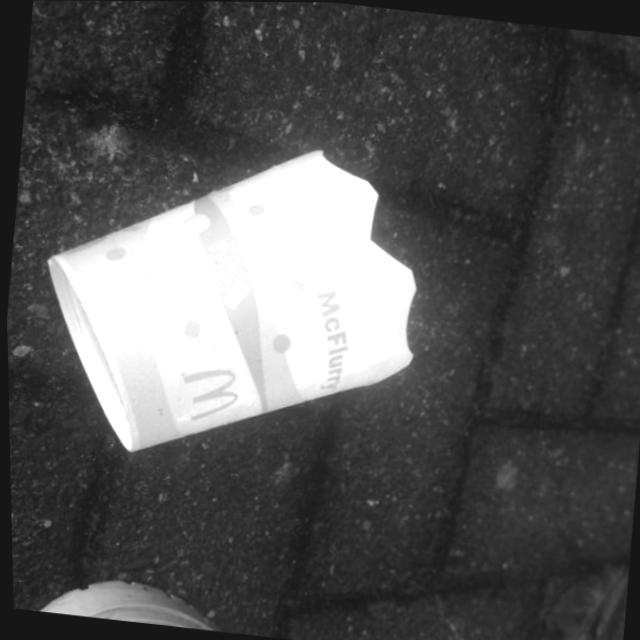Paper: (20, 114, 441, 485)
